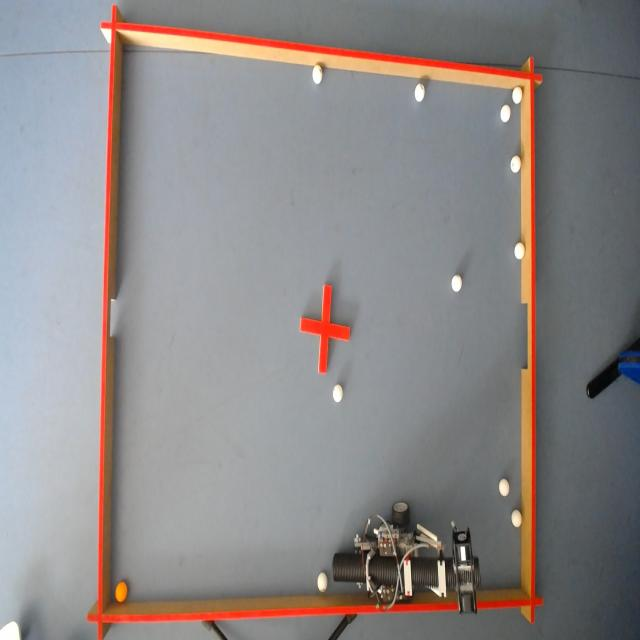orange: (115, 582, 128, 604)
robot: (333, 502, 481, 613)
white: (311, 64, 324, 85), (317, 570, 328, 593), (414, 83, 426, 103), (332, 383, 343, 404), (511, 508, 522, 528), (511, 87, 523, 105), (451, 273, 462, 292), (510, 154, 521, 173), (514, 242, 525, 260), (500, 105, 511, 122), (498, 479, 509, 496)
